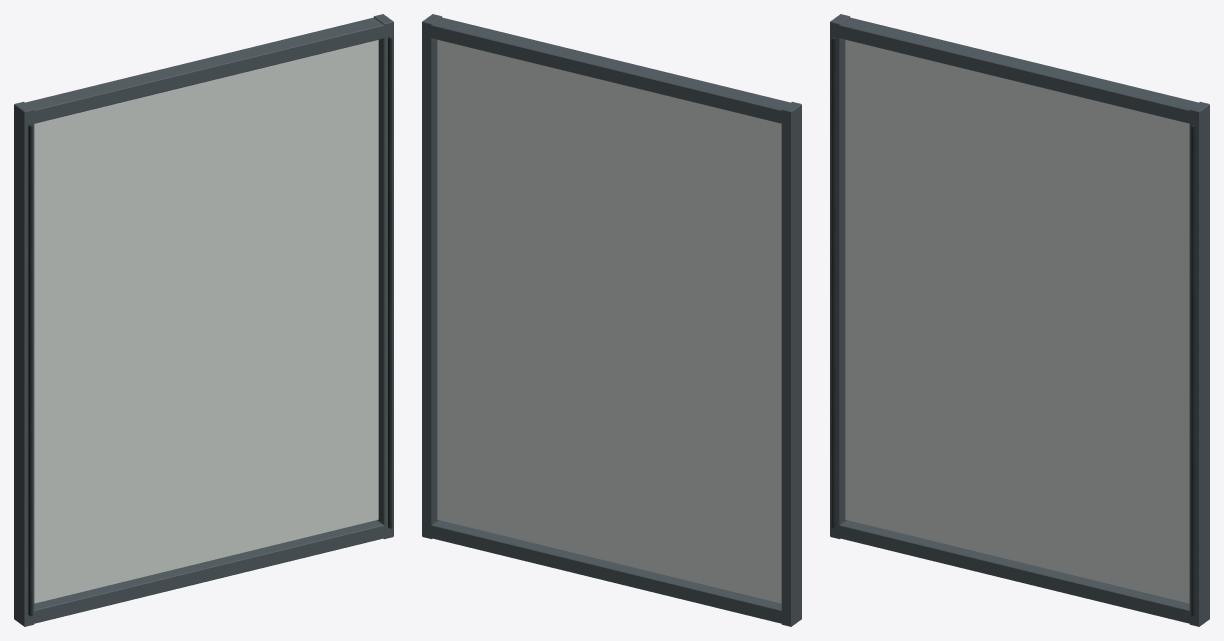
Rendered from WideGlassBay.glb.
3 views of the same model, side by side, from view 1: azimuth 30°, elevation 25°; view 2: azimuth 150°, elevation 25°; view 3: azimuth 330°, elevation 25° (orthographic).
Visible parts, largest first — view 1: WideGlassBay__SmokedArchitecturalGlass__mesh, WideGlassBay__BlackenedSteel__mesh, WideGlassBay__Powdercoat__mesh; view 2: WideGlassBay__SmokedArchitecturalGlass__mesh, WideGlassBay__BlackenedSteel__mesh; view 3: WideGlassBay__SmokedArchitecturalGlass__mesh, WideGlassBay__BlackenedSteel__mesh, WideGlassBay__Powdercoat__mesh.
Part boxes in pixels (left/top/right/bottom): WideGlassBay__SmokedArchitecturalGlass__mesh: left=34, top=40, right=378, bottom=603; WideGlassBay__BlackenedSteel__mesh: left=14, top=14, right=393, bottom=626; WideGlassBay__Powdercoat__mesh: left=28, top=37, right=392, bottom=616; WideGlassBay__SmokedArchitecturalGlass__mesh: left=437, top=40, right=781, bottom=603; WideGlassBay__BlackenedSteel__mesh: left=422, top=14, right=801, bottom=626; WideGlassBay__SmokedArchitecturalGlass__mesh: left=845, top=40, right=1189, bottom=603; WideGlassBay__BlackenedSteel__mesh: left=830, top=14, right=1209, bottom=626; WideGlassBay__Powdercoat__mesh: left=831, top=37, right=1195, bottom=616.
Size of the model in its own units: 2.4 by 3.2 by 0.1435.
3 materials, 1 textured.
